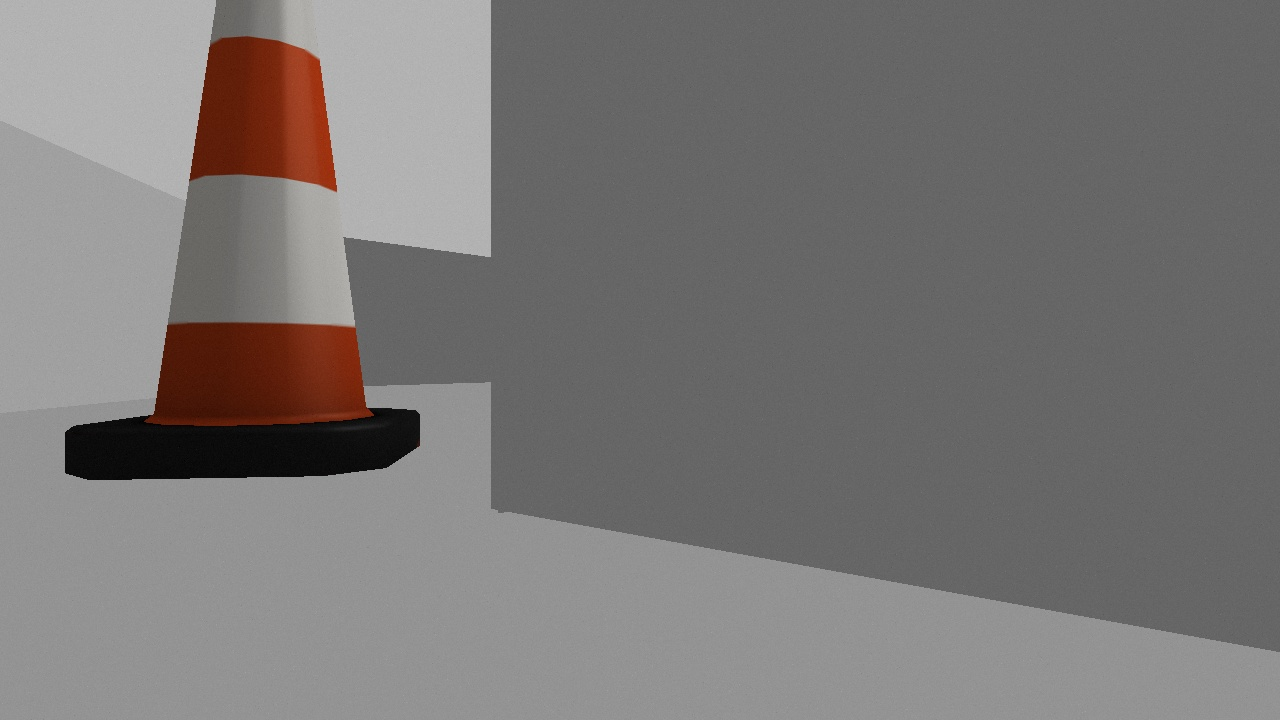barricade: (64, 1, 421, 480)
